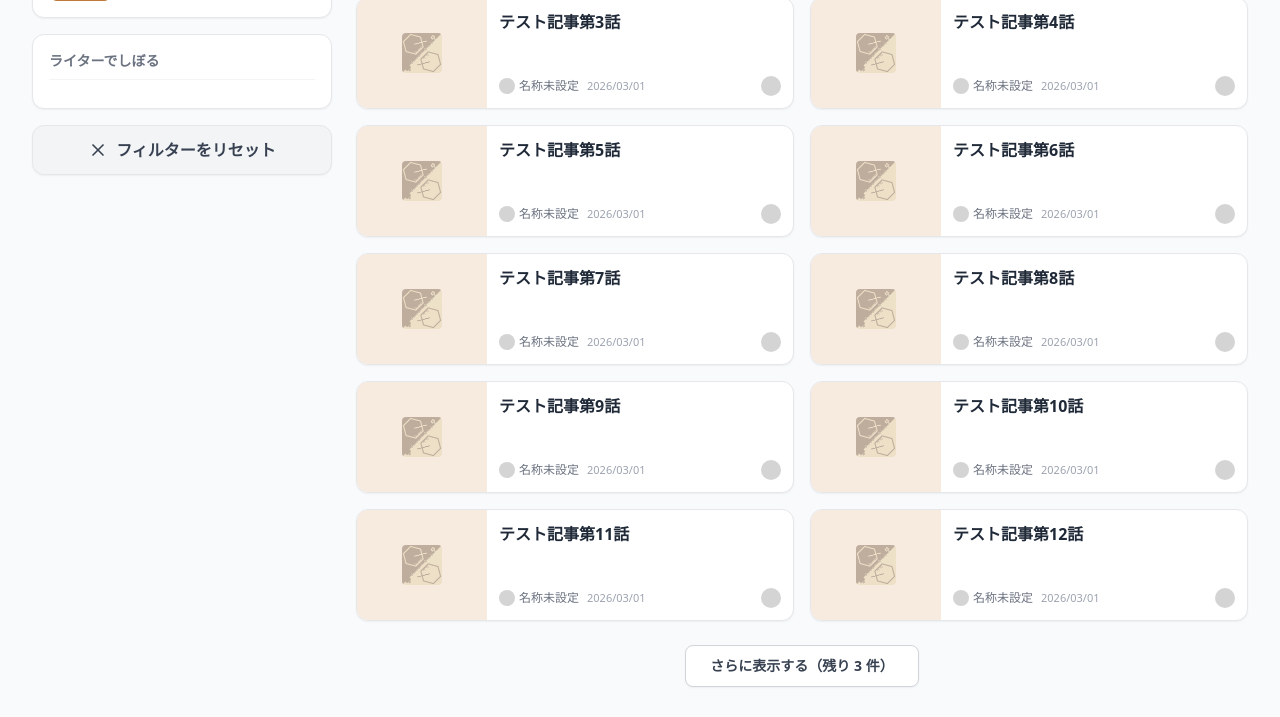
SearchView › paginates results when matching articles exceed 12 items and loads more on button click
(page scrolled)
Expected: the text "テスト記事第13話" is not shown
Click the button "さらに表示する（残り 3 件）" at (802, 666), box [685,645,919,687]
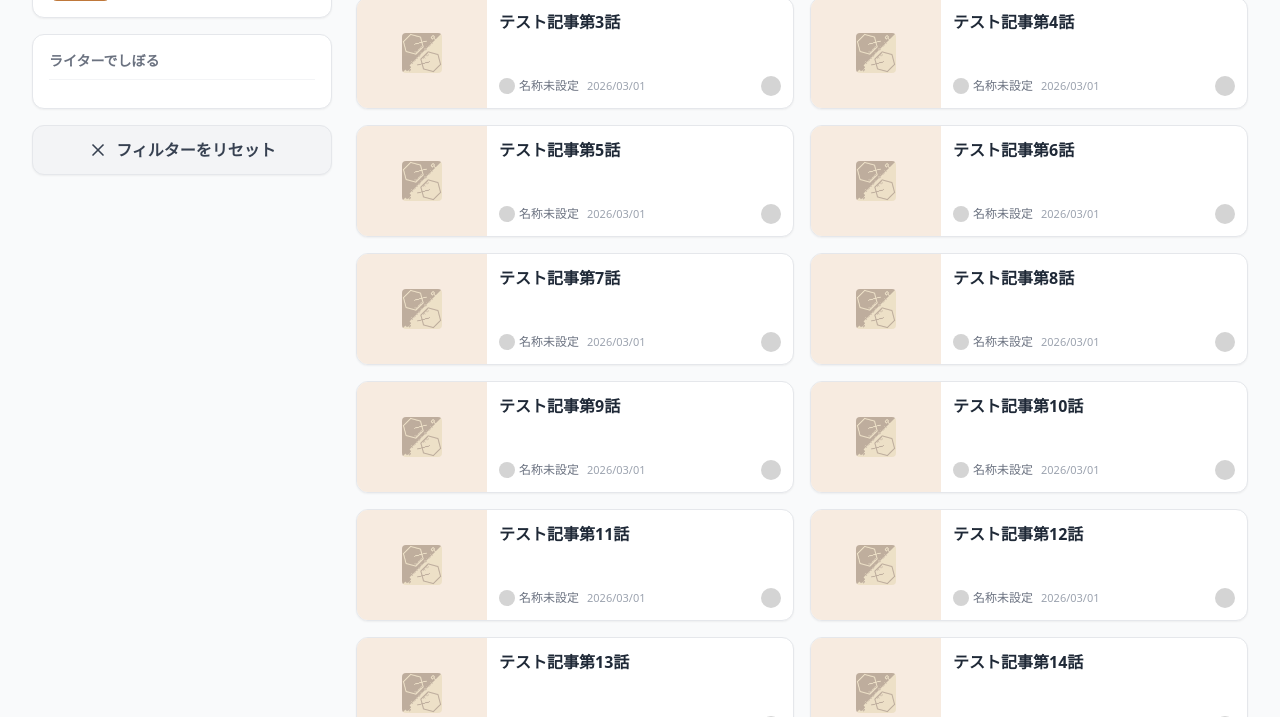
Result: the text "テスト記事第13話" is shown at [499,651,629,673]
Result: the text "さらに表示する" is gone
